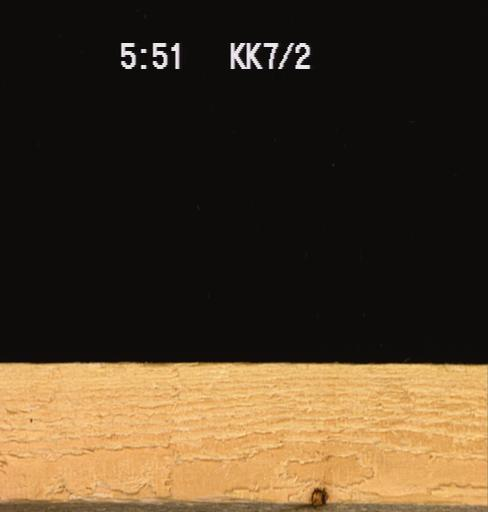edge_knot: (309, 485, 327, 510)
